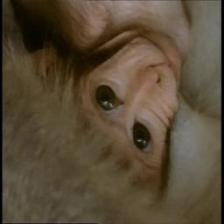monkey: (56, 23, 194, 193)
